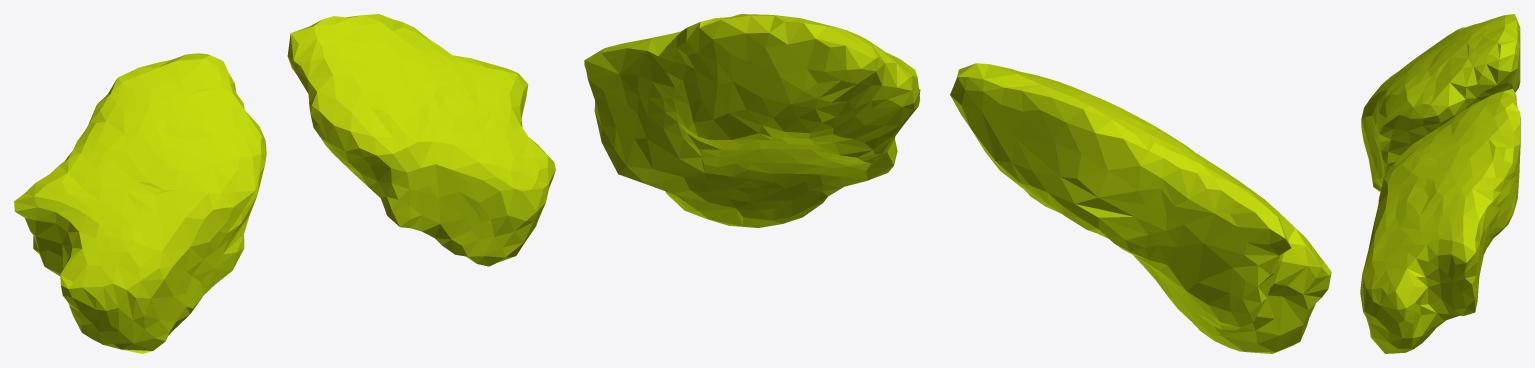
The model's file is 190-9L-area 9 of cortex, lateral part-('0.8824', '1.0000', '0.0000').obj.
3 views of the same model, side by side, from view 1: azimuth 30°, elevation 25°; view 2: azimuth 150°, elevation 25°; view 3: azimuth 270°, elevation 25° (orthographic). The views are drawn at different scales.
Size of the model in its own units: 146 by 60.11 by 42.87.
